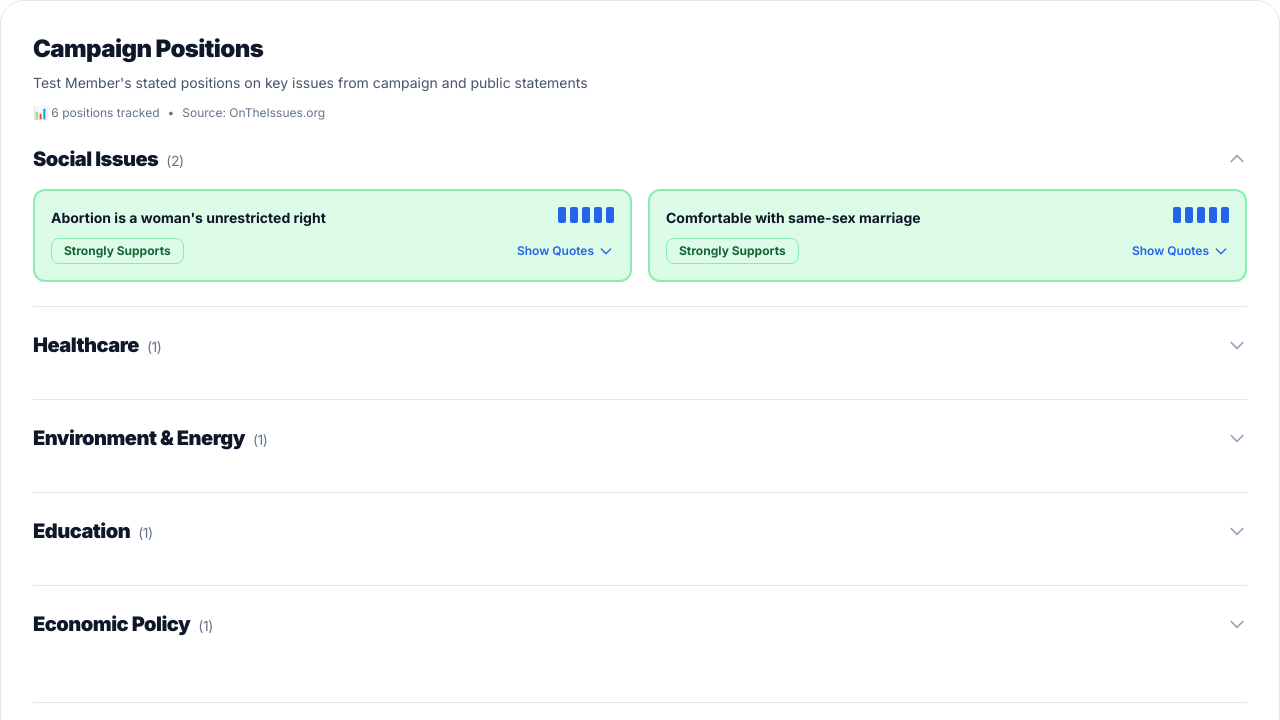
Test case: CampaignPositions › expands and shows quotes when clicked
The width and height of the screenshot is (1280, 720).
Note: Click the first one
Click the button "Show Quotes" below "Abortion is a woman's unrestricted right" at (565, 251), box [517, 243, 614, 259]
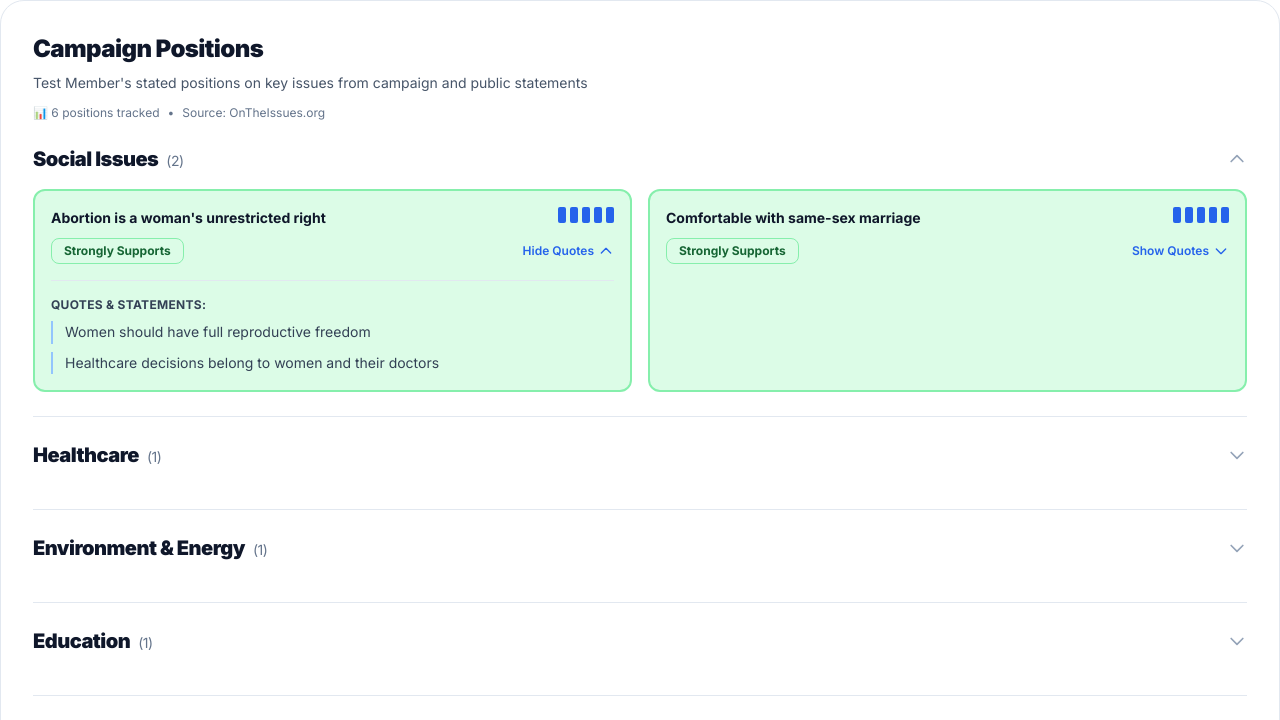
Result: the list item "Women should have full reproductive freedom" is shown at [51, 321, 614, 344]
Result: the button "Hide Quotes" is shown at [523, 243, 614, 259]
